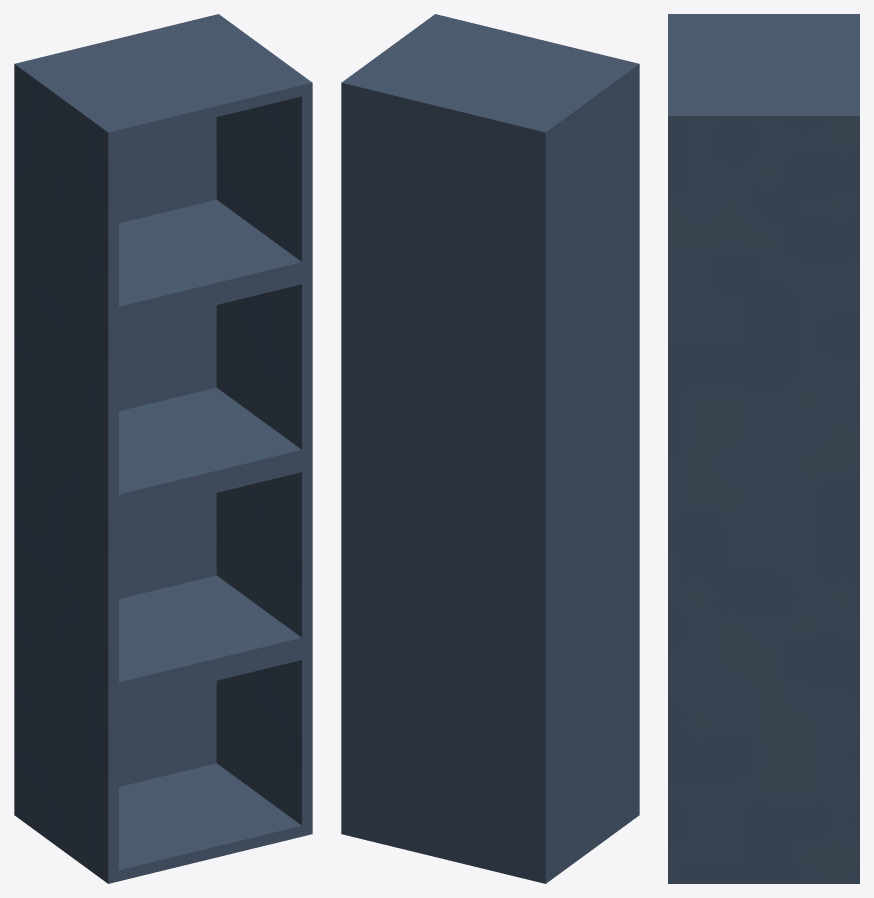
The model's file is Shelf_01_02.fbx.
3 views of the same model, side by side, from view 1: azimuth 30°, elevation 25°; view 2: azimuth 150°, elevation 25°; view 3: azimuth 270°, elevation 25° (orthographic). The views are drawn at different scales.
Visible parts, largest first — view 1: Shelf_01_02; view 2: Shelf_01_02; view 3: Shelf_01_02.
Part boxes in pixels (left/top/right/bottom): Shelf_01_02: left=14, top=14, right=312, bottom=883; Shelf_01_02: left=341, top=14, right=639, bottom=883; Shelf_01_02: left=668, top=14, right=859, bottom=883.
Size of the model in its own units: 0.4966 by 1.75 by 0.3952.
